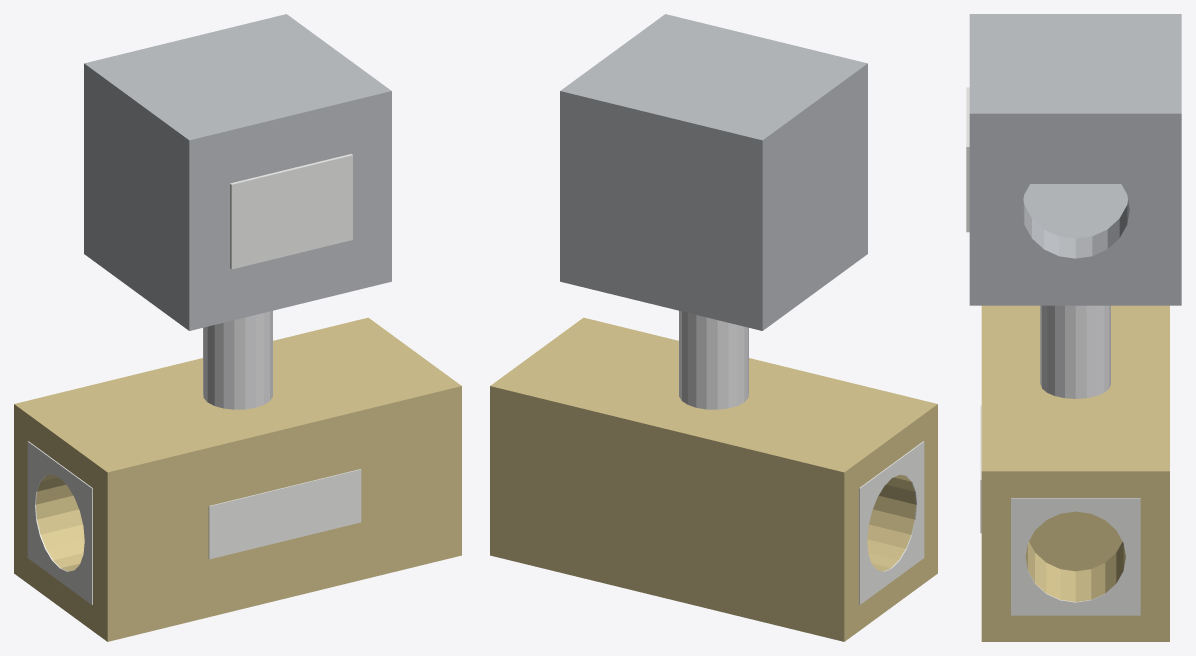
The model's file is flow-meter.glb.
3 views of the same model, side by side, from view 1: azimuth 30°, elevation 25°; view 2: azimuth 150°, elevation 25°; view 3: azimuth 270°, elevation 25° (orthographic).
Parts seen in each view (by area): view 1: body, port-1; view 2: body, port-1; view 3: body, port-2.
Boxes of the visible parts, bbox=[...] form: body: bbox=[14, 14, 461, 641]; port-1: bbox=[27, 441, 92, 604]; body: bbox=[490, 14, 937, 641]; port-1: bbox=[859, 441, 924, 604]; body: bbox=[966, 14, 1181, 641]; port-2: bbox=[1011, 498, 1140, 615].
Size of what is drawn, in the model's own units: 0.0704 by 0.092 by 0.0366.
